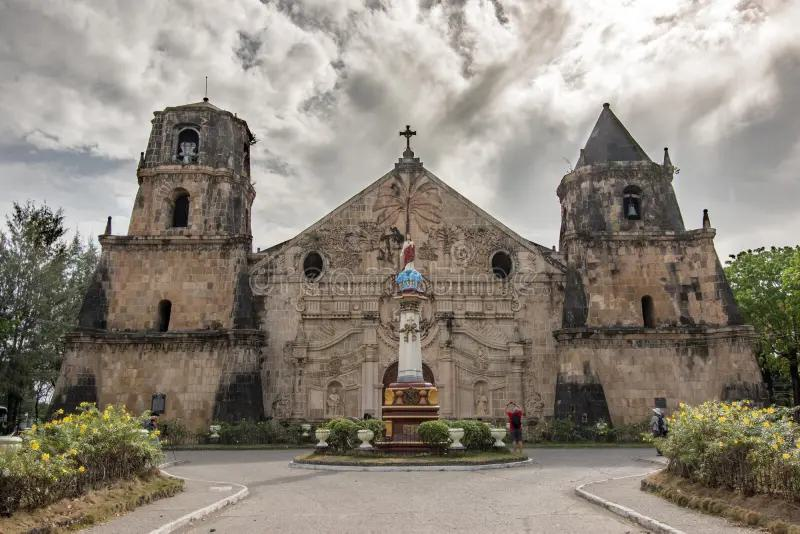miagao_church_miagao_iloilo: (51, 67, 777, 443)
